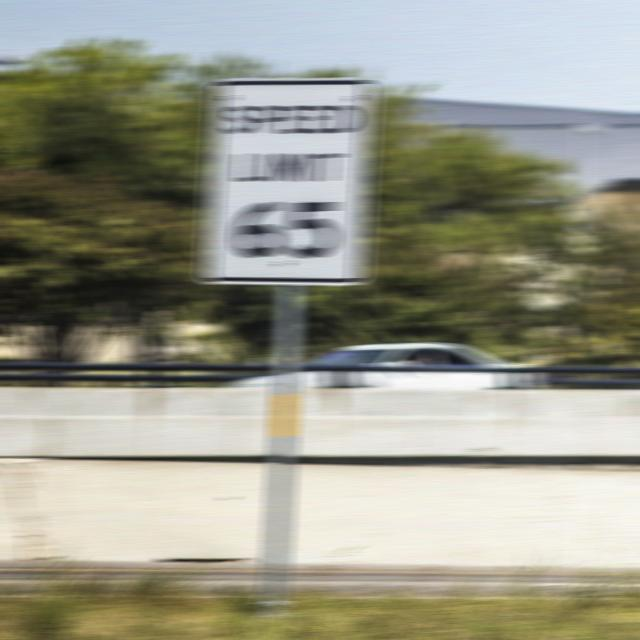speedLimit65: (208, 73, 368, 284)
